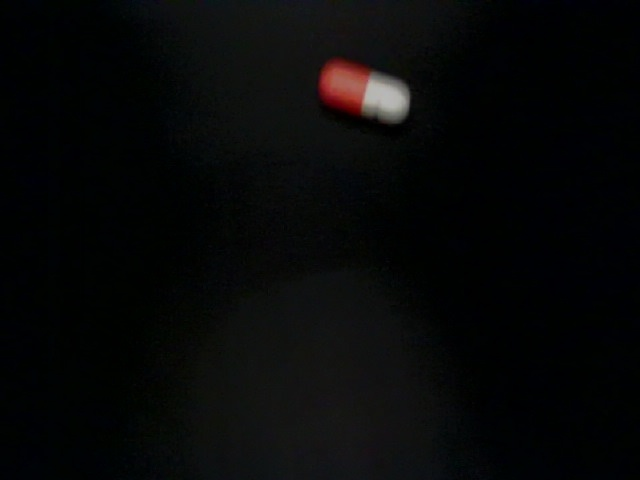YHLJ: (111, 276, 380, 431)
